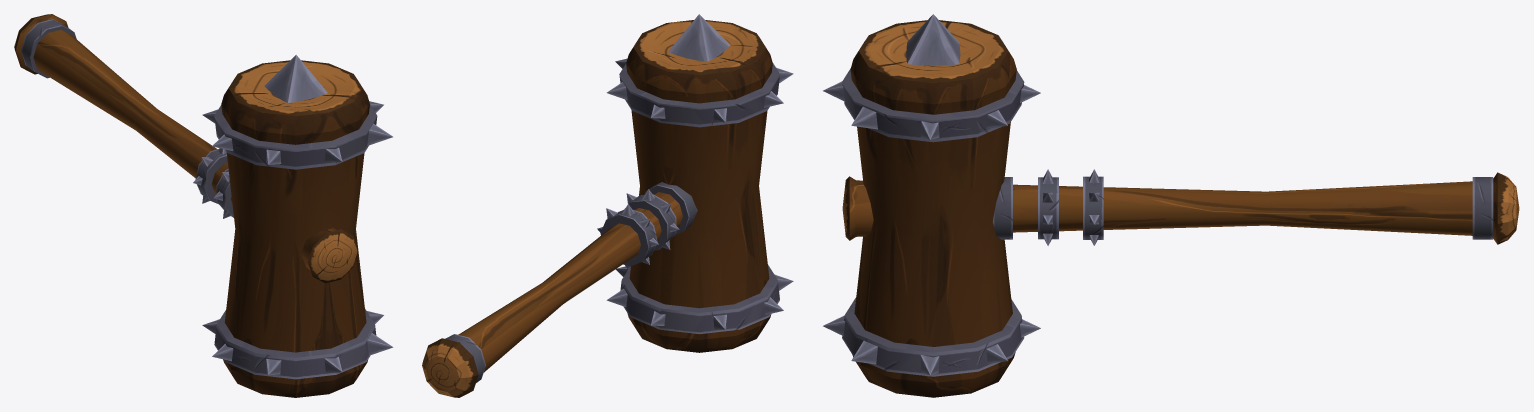
The model's file is hammer2-2.FBX.
The picture shows the model from 3 angles, left to right: view 1: azimuth 30°, elevation 25°; view 2: azimuth 150°, elevation 25°; view 3: azimuth 270°, elevation 25°; orthographic projection. The views are drawn at different scales.
Visible parts, largest first — view 1: hammer, steel, ring003, ring1, Object003, Object002, Object001, ringup002, ringup004, ringup003; view 2: hammer, steel, ring003, ring1, Object003, ringup004, Object002, Object001, ringup003, ringup, ringup002, Object005 (+1 smaller); view 3: hammer, steel, ring003, ring1, Object003, Object002, Object001, ringup002, ringup004, ringup003, ringup.
Part boxes in pixels (x1=…): hammer: x1=221, y1=60, x2=369, y2=397; steel: x1=14, y1=14, x2=358, y2=283; ring003: x1=214, y1=309, x2=376, y2=379; ring1: x1=214, y1=104, x2=377, y2=169; Object003: x1=264, y1=55, x2=327, y2=102; Object002: x1=202, y1=310, x2=393, y2=375; Object001: x1=202, y1=101, x2=392, y2=164; ringup002: x1=21, y1=19, x2=76, y2=78; ringup004: x1=195, y1=149, x2=227, y2=204; ringup003: x1=216, y1=168, x2=233, y2=217; hammer: x1=626, y1=20, x2=772, y2=352; steel: x1=422, y1=192, x2=682, y2=397; ring003: x1=620, y1=265, x2=779, y2=334; ring1: x1=619, y1=63, x2=779, y2=127; Object003: x1=668, y1=14, x2=730, y2=61; ringup004: x1=600, y1=209, x2=657, y2=266; Object002: x1=606, y1=266, x2=793, y2=329; Object001: x1=606, y1=58, x2=793, y2=122; ringup003: x1=624, y1=194, x2=676, y2=250; ringup: x1=644, y1=182, x2=697, y2=236; ringup002: x1=445, y1=334, x2=485, y2=382; Object005: x1=597, y1=204, x2=658, y2=268; hammer: x1=850, y1=20, x2=1016, y2=397; steel: x1=842, y1=172, x2=1519, y2=244; ring003: x1=842, y1=297, x2=1024, y2=376; ring1: x1=842, y1=68, x2=1024, y2=142; Object003: x1=906, y1=14, x2=960, y2=65; Object002: x1=823, y1=315, x2=1040, y2=375; Object001: x1=823, y1=81, x2=1040, y2=139; ringup002: x1=1472, y1=177, x2=1493, y2=239; ringup004: x1=1083, y1=176, x2=1103, y2=239; ringup003: x1=1038, y1=177, x2=1058, y2=239; ringup: x1=992, y1=177, x2=1012, y2=239.
Size of the model in its own units: 87.42 by 167 by 274.
1 material, 1 textured.
